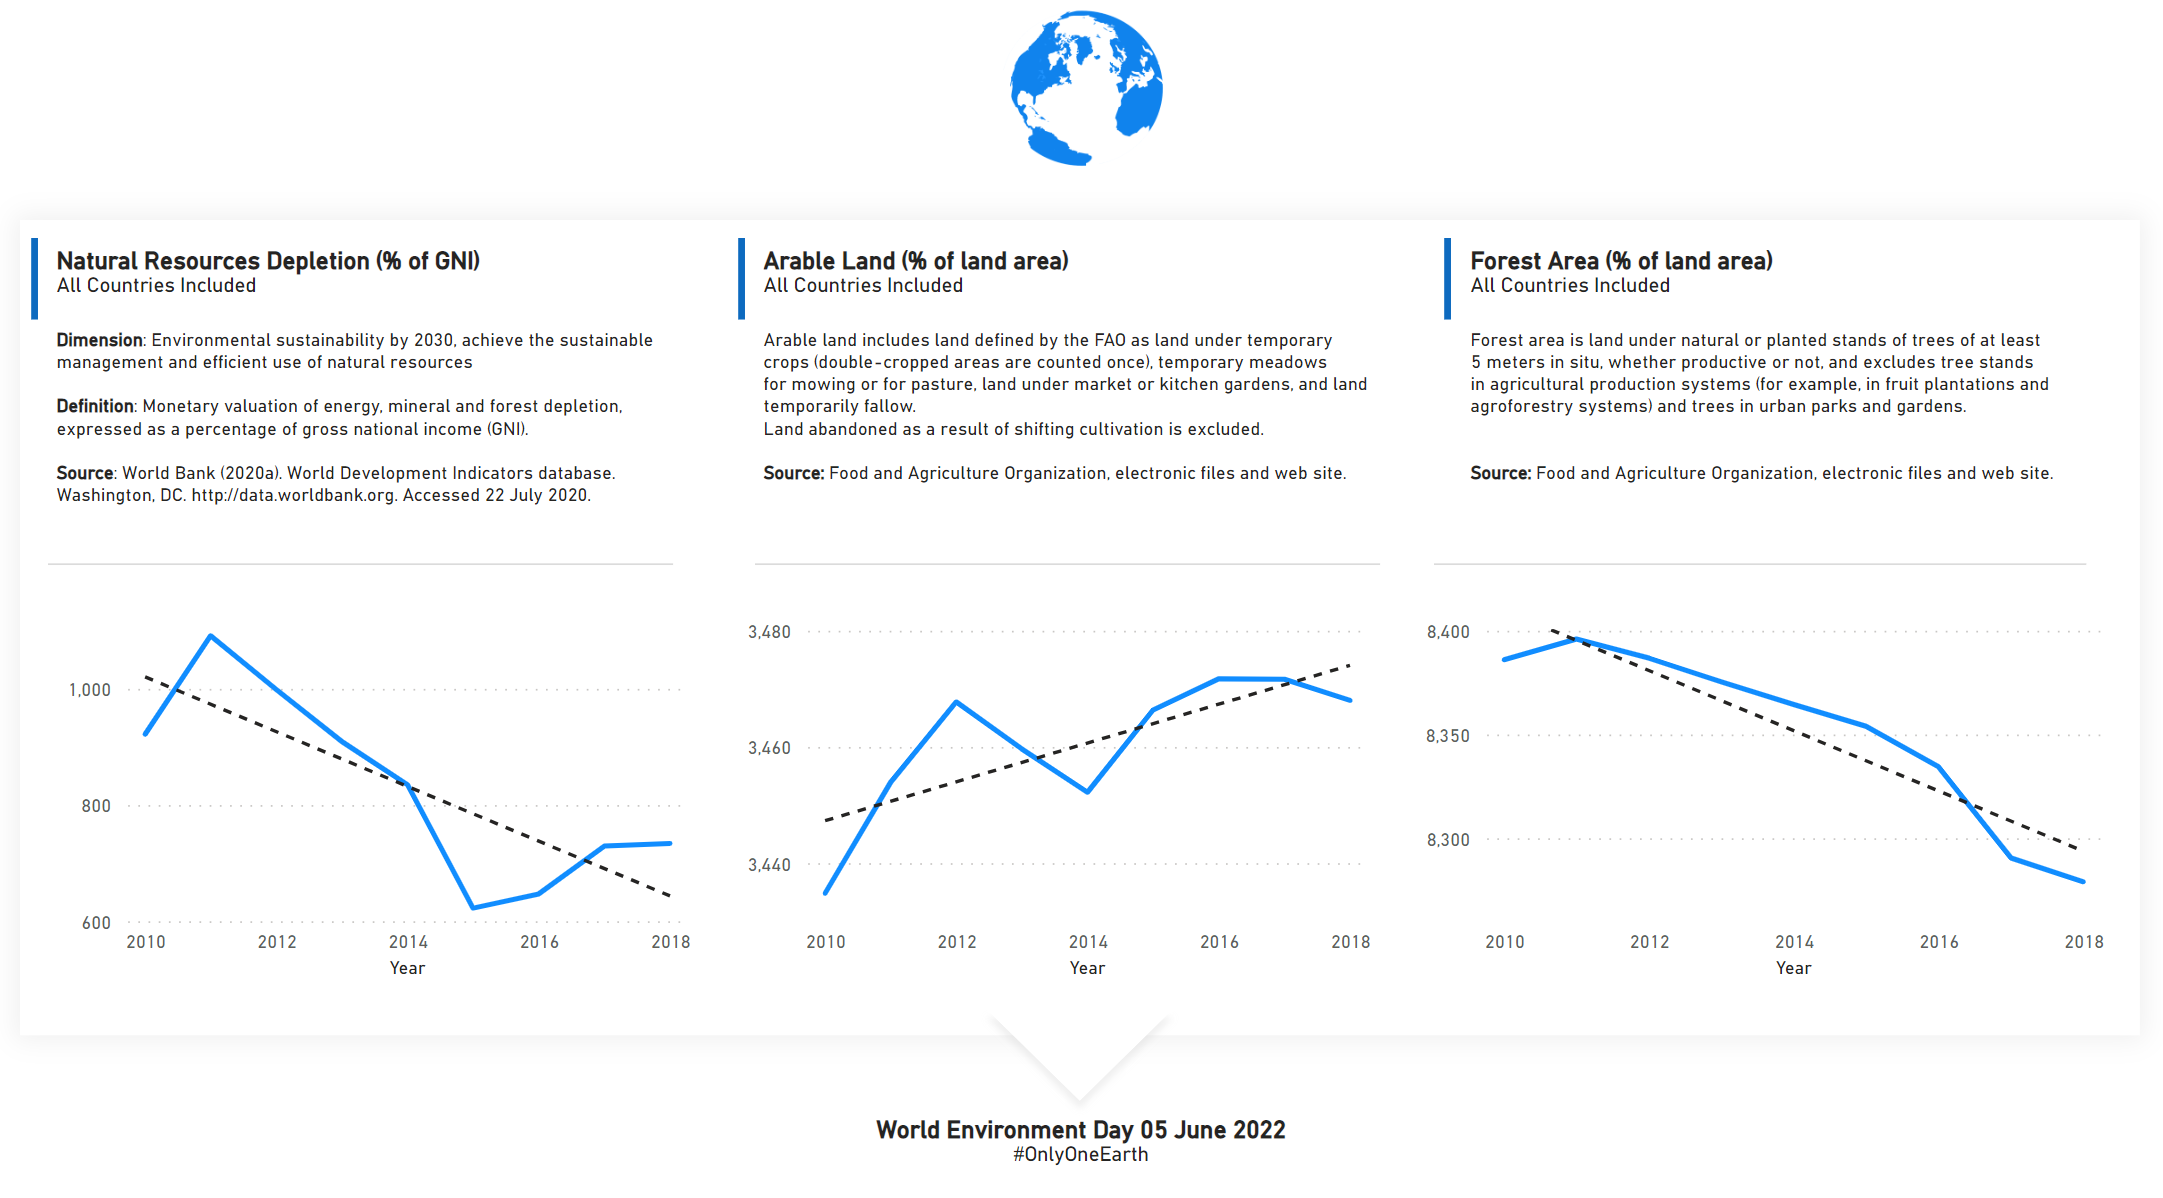

The page's visual inventory and layout, read from the dashboard file:
{"tool":"powerbi","page":{"name":"World Environment Day","canvas":[1280,720],"ordinal":0},"visuals":[{"type":"shape","box":[15.1,133.5,1248,480],"z":0},{"type":"shape","box":[575.1,589.5,128,72],"z":1000},{"type":"textbox","box":[0,656,1280,48],"z":2000},{"type":"lineChart","fields":{"Y":["Sum(undp_natural resource depletion.Value)"],"Category":["undp_natural resource depletion.year.Variation.Date Hierarchy.Year","undp_natural resource depletion.year.Variation.Date Hierarchy.Quarter","undp_natural resource depletion.year.Variation.Date Hierarchy.Month","undp_natural resource depletion.year.Variation.Date Hierarchy.Day"]},"box":[33.2,361.5,384,224],"z":3000},{"type":"lineChart","fields":{"Category":["wb_arable land.Year.Variation.Date Hierarchy.Year","wb_arable land.Year.Variation.Date Hierarchy.Quarter","wb_arable land.Year.Variation.Date Hierarchy.Month","wb_arable land.Year.Variation.Date Hierarchy.Day"],"Y":["Sum(wb_arable land.value)"]},"box":[433.2,361.5,384,224],"z":4000},{"type":"lineChart","fields":{"Category":["wb_forest area.Year.Variation.Date Hierarchy.Year","wb_forest area.Year.Variation.Date Hierarchy.Quarter","wb_forest area.Year.Variation.Date Hierarchy.Month","wb_forest area.Year.Variation.Date Hierarchy.Day"],"Y":["Sum(wb_forest area.value)"]},"box":[833.2,361.5,416,224],"z":5000},{"type":"textbox","box":[32,144,384,48],"z":6000},{"type":"shape","box":[32,320,368,32],"z":7000},{"type":"shape","box":[448,320,368,32],"z":8000},{"type":"textbox","box":[448,144,384,48],"z":9000},{"type":"shape","box":[848,320,384,32],"z":10000},{"type":"textbox","box":[864,144,368,48],"z":11000},{"type":"image","box":[0,0,1280,112],"z":12000},{"type":"shape","box":[432,144,16,48],"z":13000},{"type":"shape","box":[848,144,16,48],"z":14000},{"type":"shape","box":[16,144,16,48],"z":15000},{"type":"textbox","box":[32,192,368,160],"z":16000},{"type":"textbox","box":[448,192,368,160],"z":17000},{"type":"textbox","box":[864,192,368,160],"z":18000}]}

Visuals, with their boxes in screenshot pixels (x1, y1, x2, y2), scaled from the page's 1280x720 canvas onto the 2163x1198 screenshot:
shape: pyautogui.locateOnScreen(26, 222, 2134, 1021)
shape: pyautogui.locateOnScreen(972, 981, 1188, 1101)
textbox: pyautogui.locateOnScreen(0, 1092, 2162, 1171)
lineChart - Sum(undp_natural resource depletion.Value) x undp_natural resource depletion.year.Variation.Date Hierarchy.Year: pyautogui.locateOnScreen(56, 601, 705, 974)
lineChart - wb_arable land.Year.Variation.Date Hierarchy.Year x wb_arable land.Year.Variation.Date Hierarchy.Quarter: pyautogui.locateOnScreen(732, 601, 1381, 974)
lineChart - wb_forest area.Year.Variation.Date Hierarchy.Year x wb_forest area.Year.Variation.Date Hierarchy.Quarter: pyautogui.locateOnScreen(1408, 601, 2111, 974)
textbox: pyautogui.locateOnScreen(54, 240, 703, 319)
shape: pyautogui.locateOnScreen(54, 532, 676, 586)
shape: pyautogui.locateOnScreen(757, 532, 1379, 586)
textbox: pyautogui.locateOnScreen(757, 240, 1406, 319)
shape: pyautogui.locateOnScreen(1433, 532, 2082, 586)
textbox: pyautogui.locateOnScreen(1460, 240, 2082, 319)
image: pyautogui.locateOnScreen(0, 0, 2162, 186)
shape: pyautogui.locateOnScreen(730, 240, 757, 319)
shape: pyautogui.locateOnScreen(1433, 240, 1460, 319)
shape: pyautogui.locateOnScreen(27, 240, 54, 319)
textbox: pyautogui.locateOnScreen(54, 319, 676, 586)
textbox: pyautogui.locateOnScreen(757, 319, 1379, 586)
textbox: pyautogui.locateOnScreen(1460, 319, 2082, 586)
